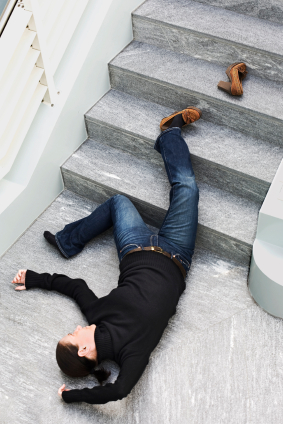collapsed: (6, 67, 247, 418)
